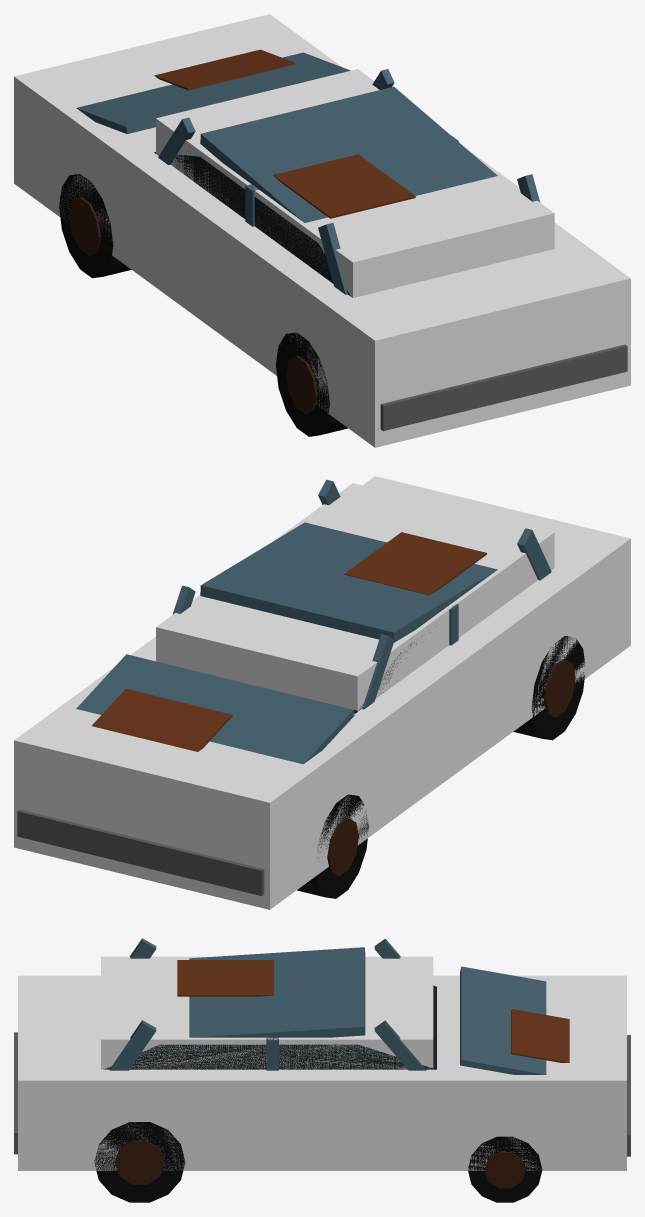
Rendered from WreckedCar_Blue.fbx.
3 views of the same model, one above another, from view 1: azimuth 30°, elevation 25°; view 2: azimuth 150°, elevation 25°; view 3: azimuth 270°, elevation 25° (orthographic). The views are drawn at different scales.
Visible parts, largest first — view 1: COL_WreckedCar_Blue_Body, WreckedCar_Blue, COL_WreckedCar_Blue_Cabin; view 2: COL_WreckedCar_Blue_Body, WreckedCar_Blue, COL_WreckedCar_Blue_Cabin; view 3: COL_WreckedCar_Blue_Body, WreckedCar_Blue, COL_WreckedCar_Blue_Cabin.
Boxes of the visible parts, x1,y1,x2,y2 form: COL_WreckedCar_Blue_Body: (14,14,630,447); WreckedCar_Blue: (59,49,627,436); COL_WreckedCar_Blue_Cabin: (156,69,554,297); COL_WreckedCar_Blue_Body: (14,476,630,909); WreckedCar_Blue: (17,479,584,898); COL_WreckedCar_Blue_Cabin: (156,483,554,711); COL_WreckedCar_Blue_Body: (18,975,626,1170); WreckedCar_Blue: (14,938,630,1202); COL_WreckedCar_Blue_Cabin: (101,956,433,1069).
Size of the model in its own units: 1.83 by 1.35 by 4.46.
